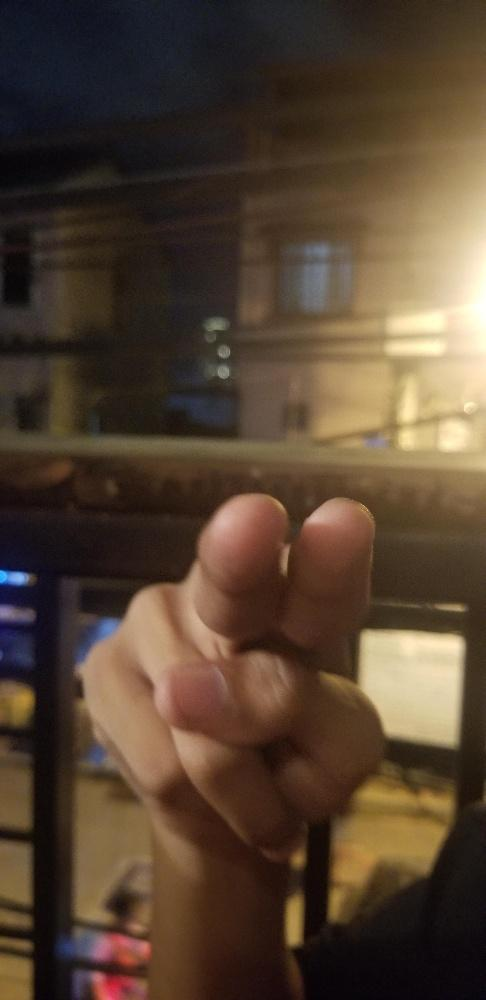n: (81, 489, 387, 855)
